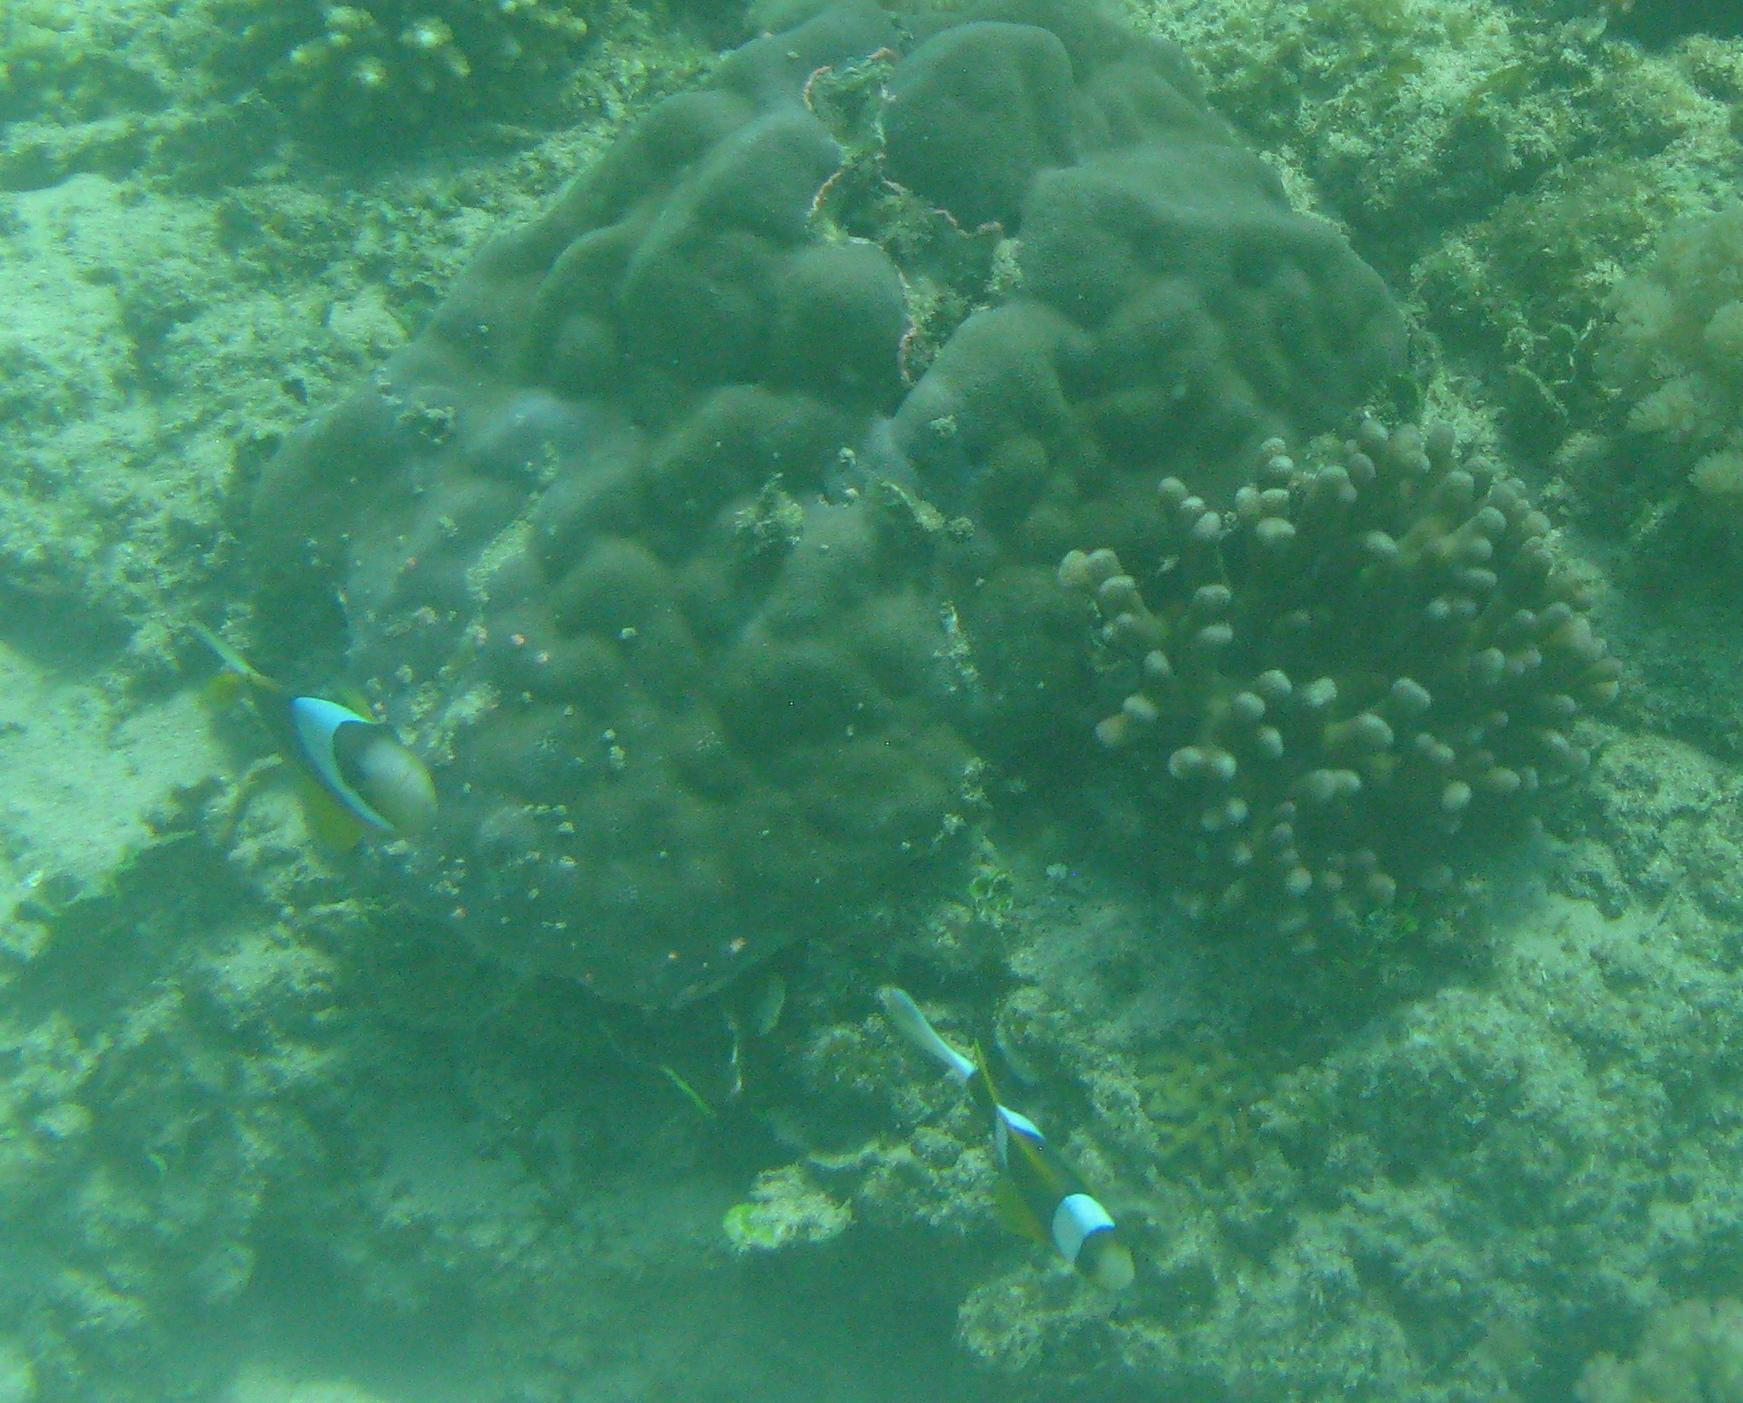Fish: (820, 900, 1181, 1319), (140, 573, 465, 943)
